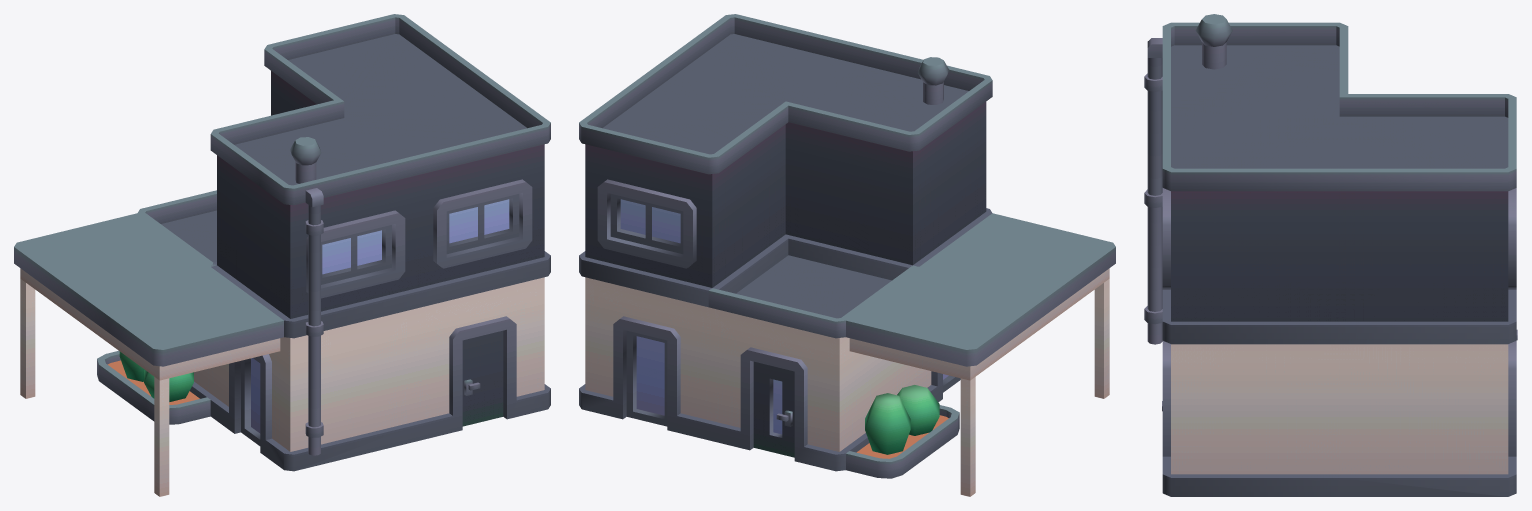
The model's file is sub_building_type_q.glb.
3 views of the same model, side by side, from view 1: azimuth 30°, elevation 25°; view 2: azimuth 150°, elevation 25°; view 3: azimuth 270°, elevation 25° (orthographic). The views are drawn at different scales.
Visible parts, largest first — view 1: building-type-q; view 2: building-type-q; view 3: building-type-q.
Part boxes in pixels (x1,y1,x2,y2): building-type-q: (14, 14, 550, 496); building-type-q: (579, 14, 1115, 496); building-type-q: (1144, 14, 1517, 496).
Bounding box in the file's own units: 1.24 × 0.918 × 0.8856.
Materials: 1 (1 with a texture image).
